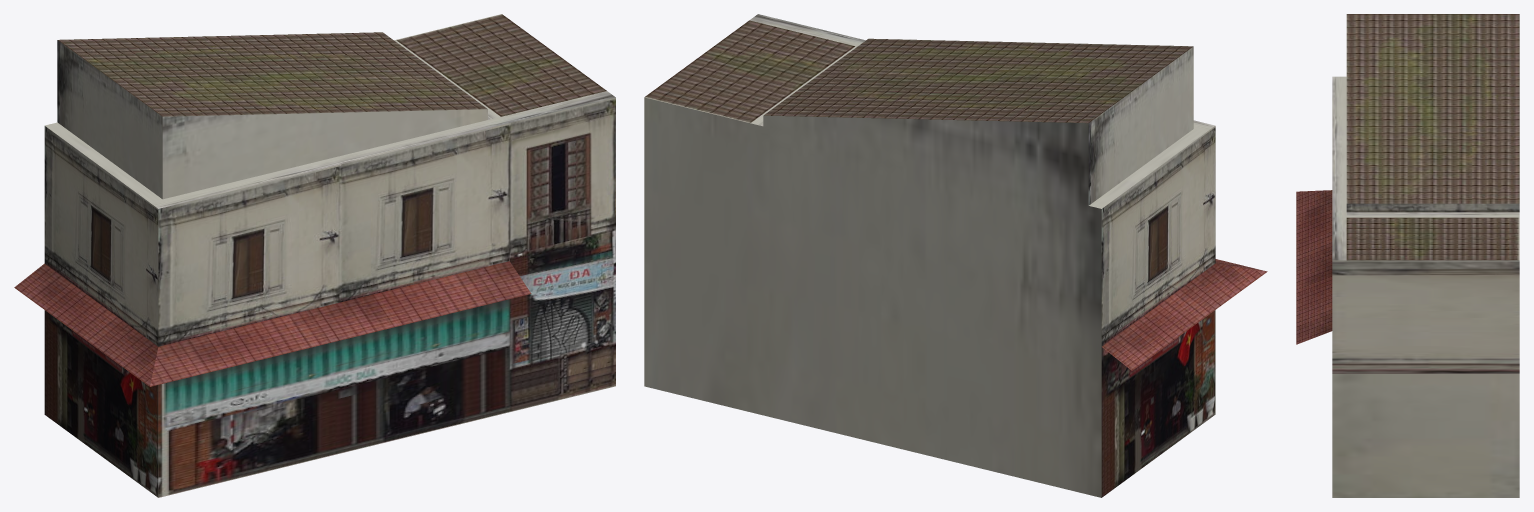
The picture shows the model from 3 angles, left to right: view 1: azimuth 30°, elevation 25°; view 2: azimuth 150°, elevation 25°; view 3: azimuth 270°, elevation 25°; orthographic projection. The views are drawn at different scales.
Visible parts, largest first — view 1: 5cda3ad428a55ef7c0301e1f.001; view 2: 5cda3ad428a55ef7c0301e1f.001; view 3: 5cda3ad428a55ef7c0301e1f.001.
Boxes of the visible parts, x1=… form: 5cda3ad428a55ef7c0301e1f.001: x1=14, y1=14, x2=615, y2=497; 5cda3ad428a55ef7c0301e1f.001: x1=644, y1=14, x2=1267, y2=497; 5cda3ad428a55ef7c0301e1f.001: x1=1296, y1=14, x2=1519, y2=497.
Bounding box in the file's own units: 12.37 × 9 × 5.96.
Materials: 1 (1 with a texture image).
